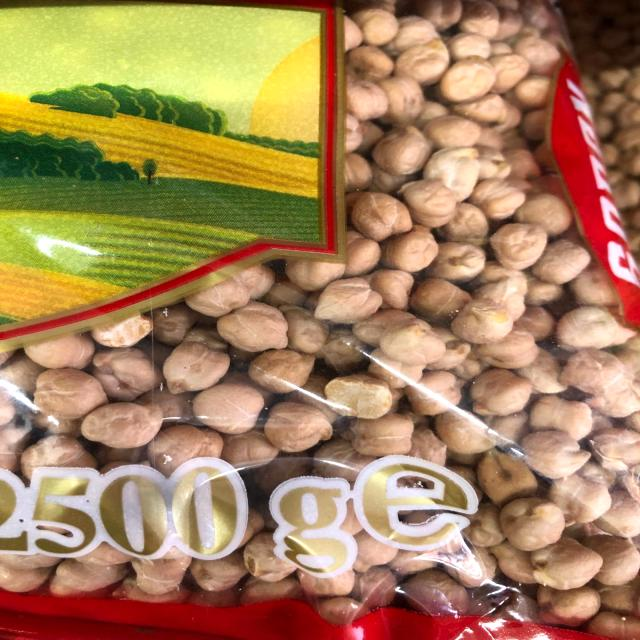chickpeas: (345, 17, 556, 318), (37, 338, 351, 464)
